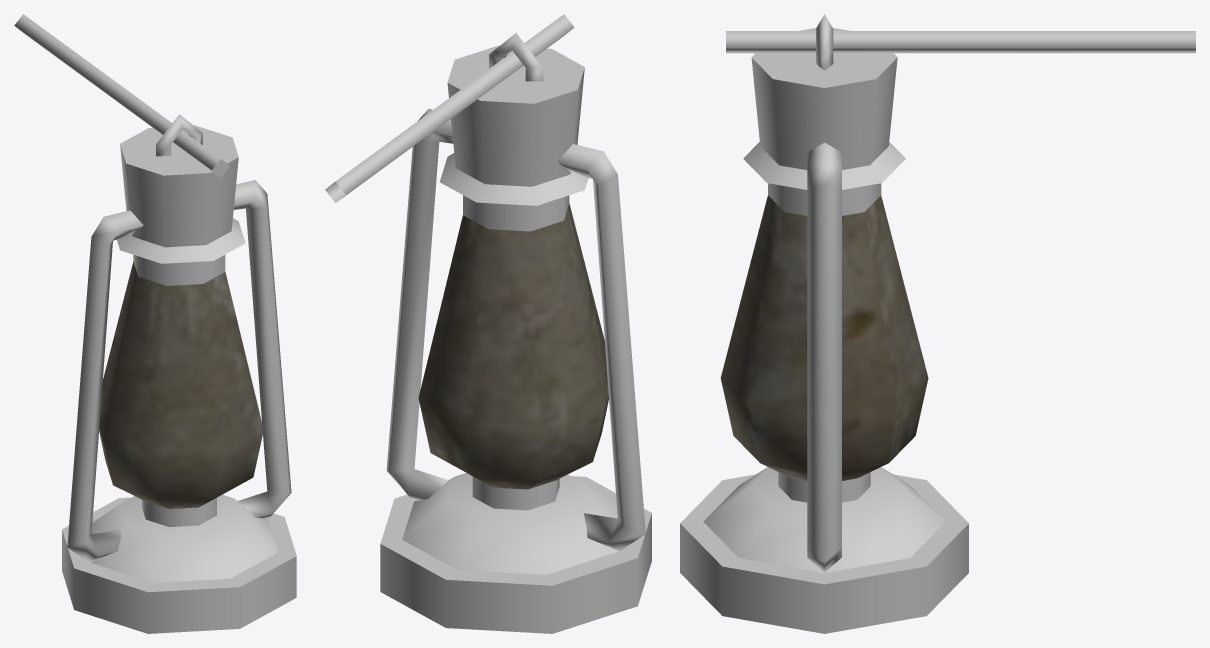
The model's file is Lamp1_LOD1.fbx.
3 renders of one model, left to right at view 1: azimuth 30°, elevation 25°; view 2: azimuth 150°, elevation 25°; view 3: azimuth 270°, elevation 25°, orthographic. The views are drawn at different scales.
Visible parts, largest first — view 1: polySurface336; view 2: polySurface336; view 3: polySurface336.
Boxes of the visible parts, left/top/right/bottom form: polySurface336: left=14, top=14, right=296, bottom=633; polySurface336: left=325, top=14, right=651, bottom=633; polySurface336: left=680, top=14, right=1195, bottom=633.
Size of the model in its own units: 0.3706 by 0.7427 by 0.6211.
